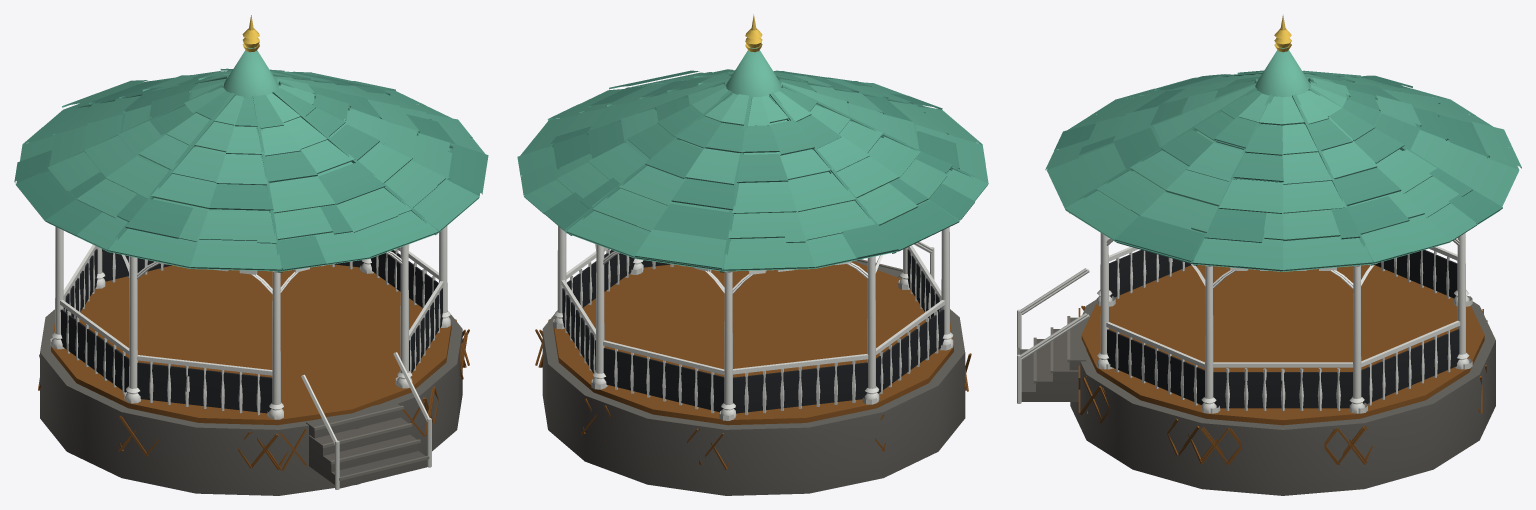
The model's file is Bandstand.fbx.
3 renders of one model, left to right at view 1: azimuth 30°, elevation 25°; view 2: azimuth 150°, elevation 25°; view 3: azimuth 270°, elevation 25°, orthographic.
Visible parts, largest first — view 1: Bandstand_LOD0; view 2: Bandstand_LOD0; view 3: Bandstand_LOD0.
Boxes of the visible parts, bbox=[...] form: Bandstand_LOD0: bbox=[14, 15, 488, 495]; Bandstand_LOD0: bbox=[517, 14, 988, 495]; Bandstand_LOD0: bbox=[1017, 14, 1521, 495].
Size of what is drawn, in the model's own units: 8.5 by 7.73 by 9.02.
Materials: 1 (1 with a texture image).
